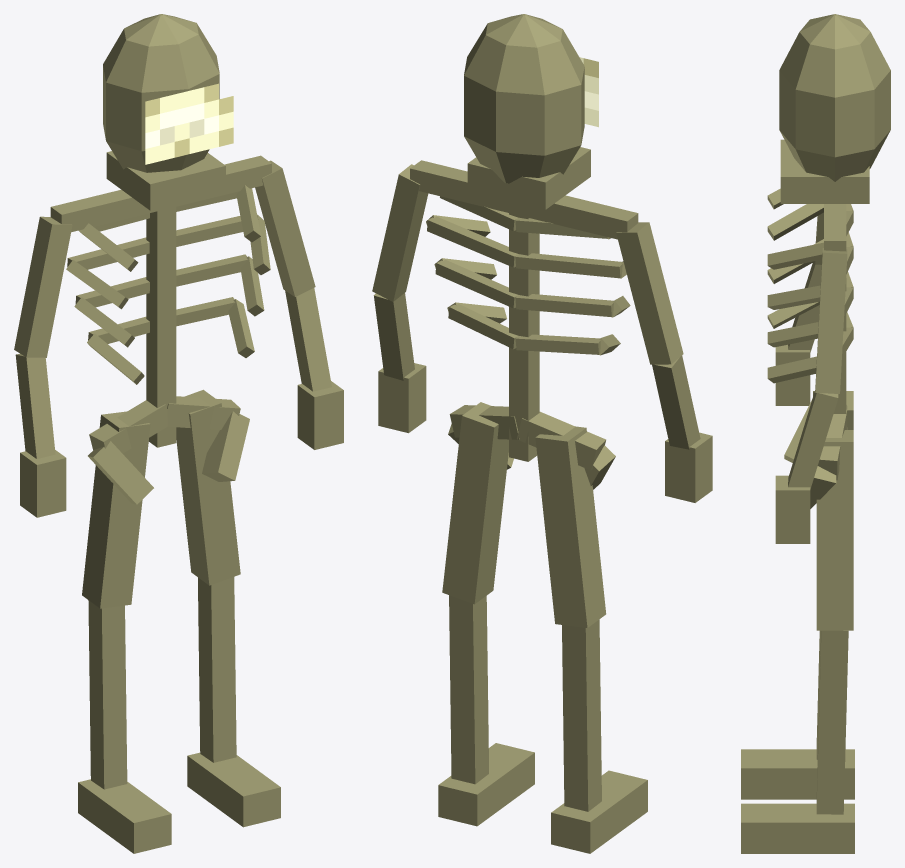
The model's file is skeleton_model.glb.
3 renders of one model, left to right at view 1: azimuth 30°, elevation 25°; view 2: azimuth 150°, elevation 25°; view 3: azimuth 270°, elevation 25°, orthographic. The views are drawn at different scales.
Visible parts, largest first — view 1: Skeleton, Skull_Face; view 2: Skeleton, Skull_Face; view 3: Skeleton.
Part boxes in pixels (x1,y1,x2,y2): Skeleton: (14,14,343,853); Skull_Face: (145,83,233,164); Skeleton: (372,14,712,853); Skull_Face: (579,57,598,127); Skeleton: (741,14,890,853).
Bounding box in the file's own units: 0.73 × 1.79 × 0.3028.
2 materials, 2 textured.
